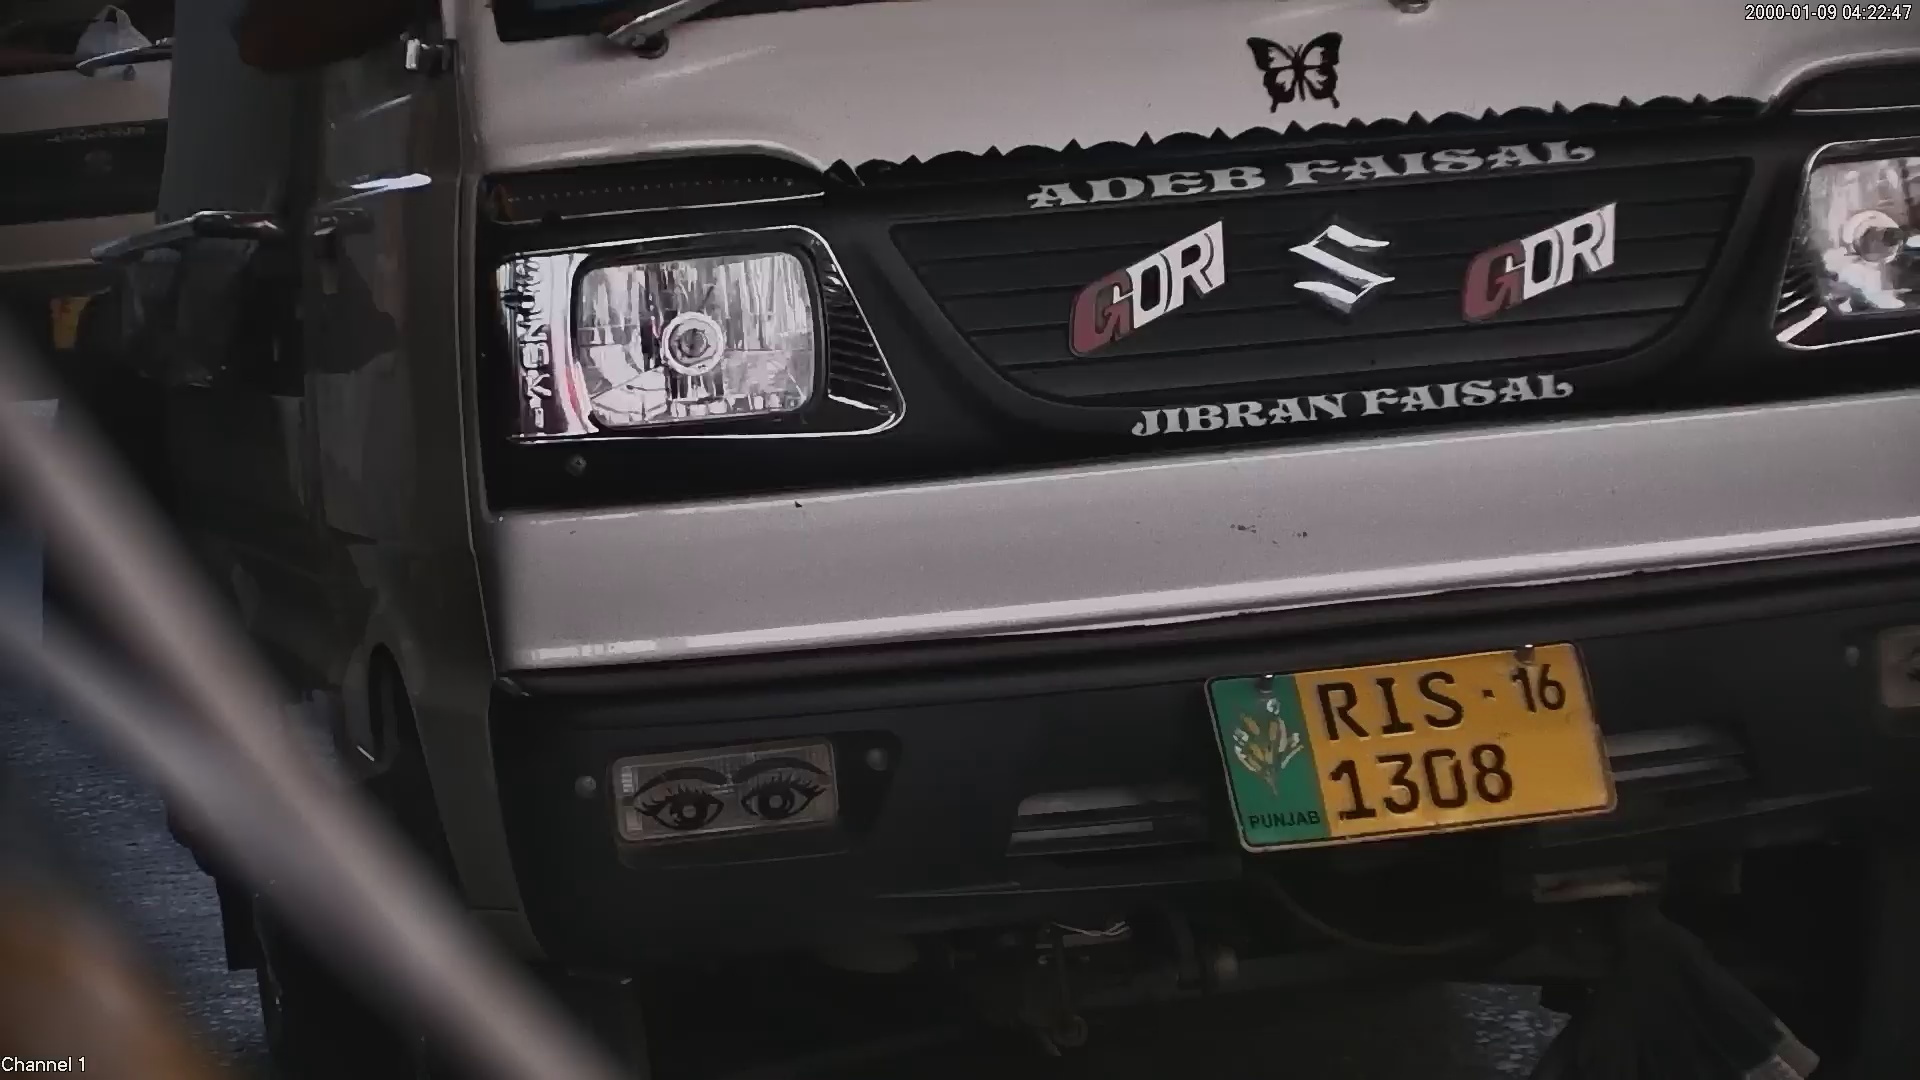Number_Plate: (1189, 636, 1623, 849)
Undefined: (1034, 138, 1637, 425), (484, 181, 867, 449), (1756, 125, 1920, 375), (593, 720, 860, 840)
